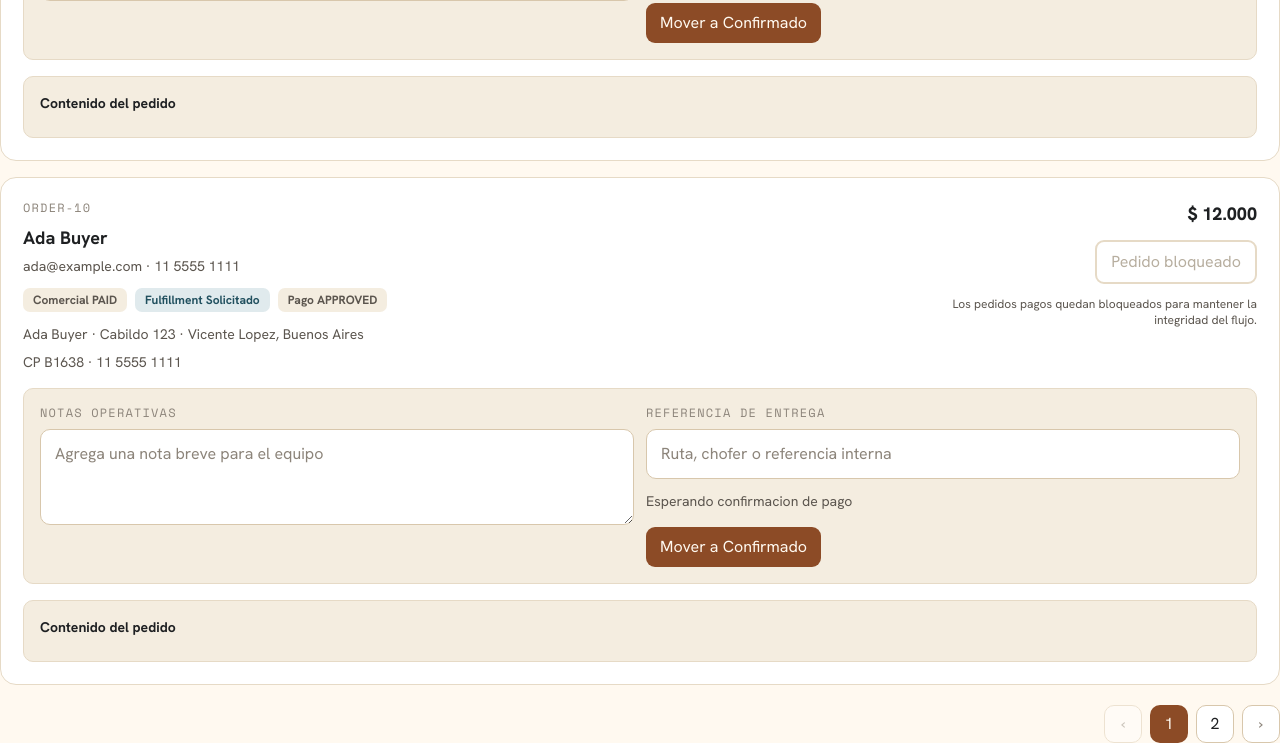
client-side pagination shows 10 orders per page and reveals the rest on page 2
(page scrolled)
Check: the text "order-10" is shown, box [23,199,91,216]
Step 1. Click the button "2" → click(1215, 724), box [1196,705,1234,742]
(page scrolled)
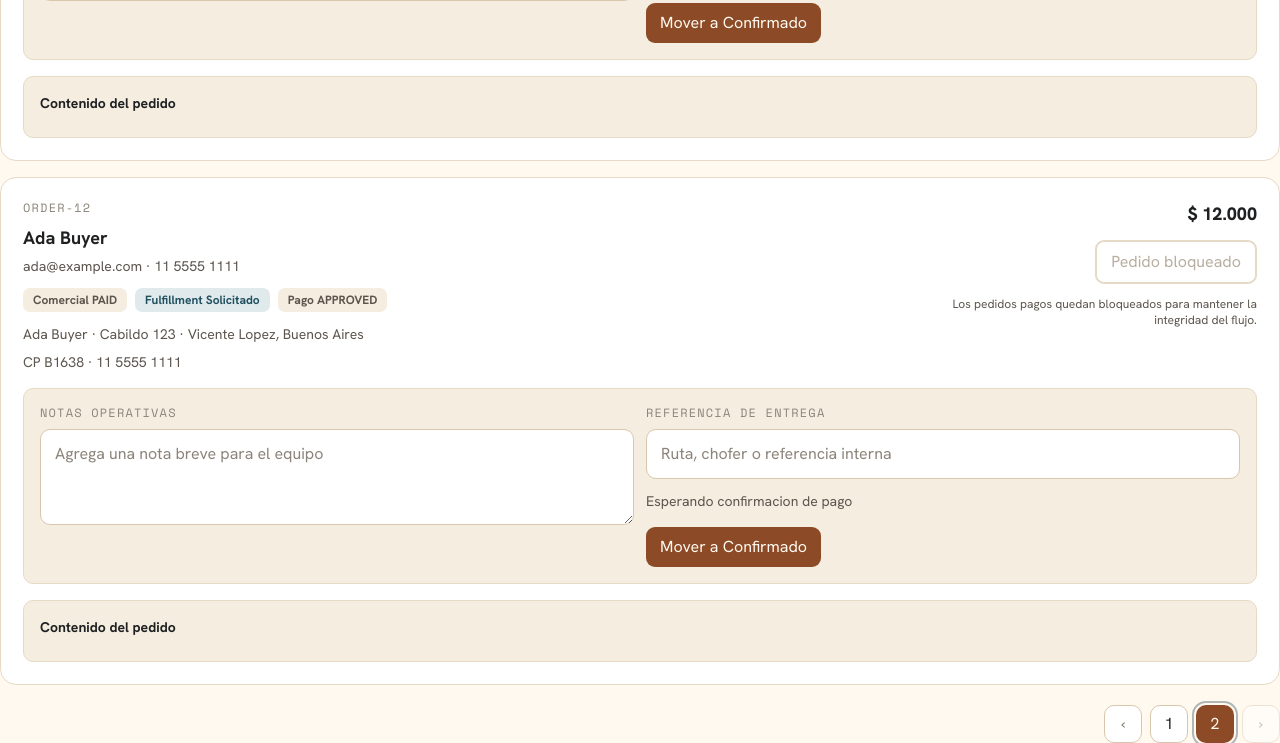
Check: the text "order-12" is shown, box [23,199,91,216]
